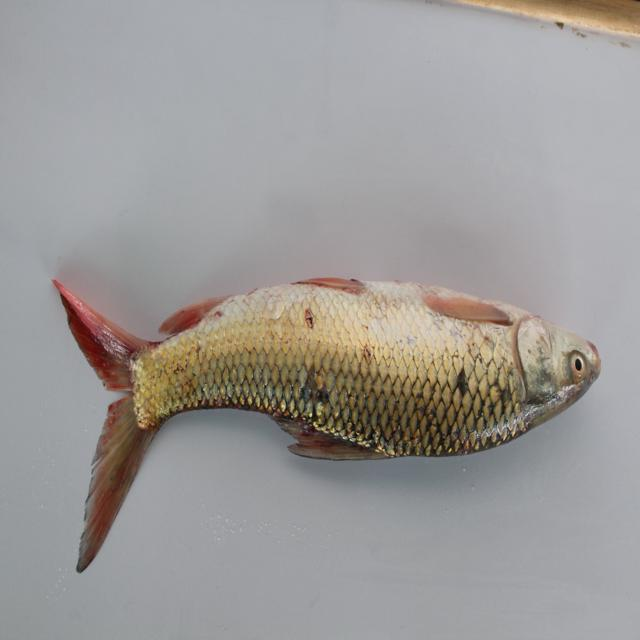Mori: (48, 213, 602, 575)
